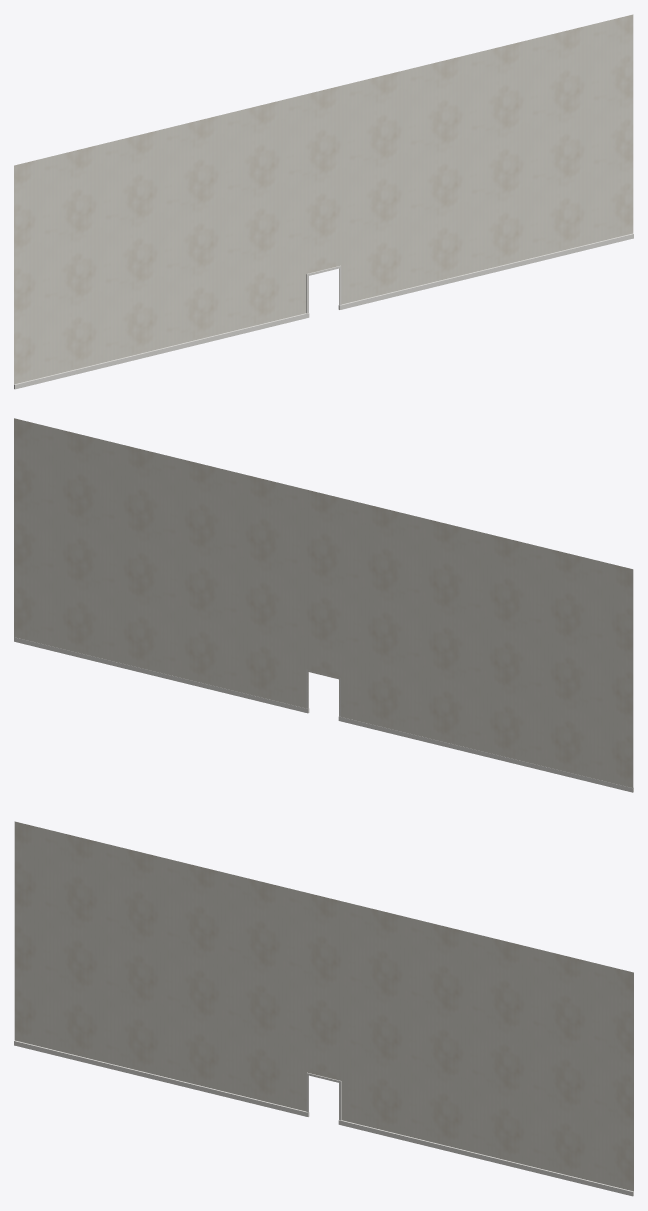
File: wall20_hatch.gltf
3 renders of one model, top to bottom at view 1: azimuth 30°, elevation 25°; view 2: azimuth 150°, elevation 25°; view 3: azimuth 330°, elevation 25°, orthographic.
Visible parts, largest first — view 1: jx_w20_hatch; view 2: jx_w20_hatch; view 3: jx_w20_hatch.
Boxes of the visible parts, bbox=[...] form: jx_w20_hatch: bbox=[14, 14, 633, 389]; jx_w20_hatch: bbox=[14, 418, 633, 792]; jx_w20_hatch: bbox=[14, 821, 633, 1196].
Bounding box in the file's own units: 20.3 × 7 × 0.05.
Materials: 2 (2 with a texture image).
